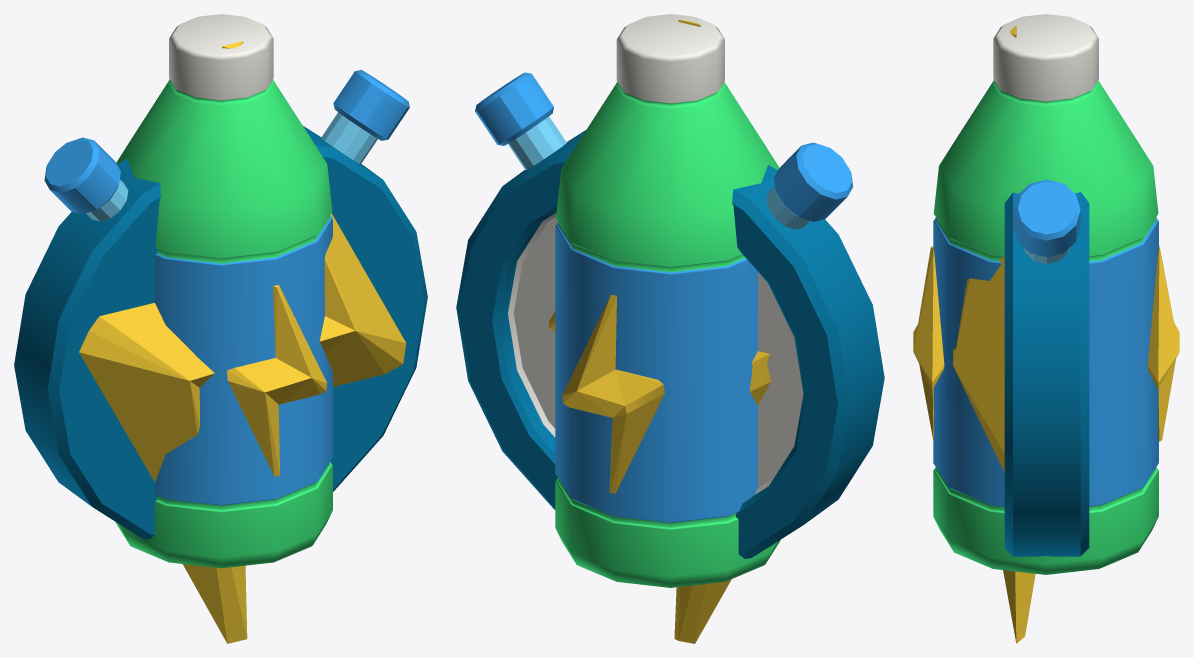
File: Bonus.fbx
3 renders of one model, left to right at view 1: azimuth 30°, elevation 25°; view 2: azimuth 150°, elevation 25°; view 3: azimuth 270°, elevation 25°, orthographic. The views are drawn at different scales.
Visible parts, largest first — view 1: Bonus_3, Bonus_1, Bonus_2; view 2: Bonus_3, Bonus_1, Bonus_2; view 3: Bonus_3, Bonus_1, Bonus_2.
Boxes of the visible parts, box(x1,y1,x2,y2) form: Bonus_3: box(115, 14, 332, 568); Bonus_1: box(14, 70, 427, 539); Bonus_2: box(79, 41, 406, 643); Bonus_3: box(555, 14, 780, 587); Bonus_1: box(456, 72, 884, 558); Bonus_2: box(548, 20, 770, 643); Bonus_3: box(913, 14, 1179, 574); Bonus_1: box(1004, 179, 1089, 556); Bonus_2: box(953, 26, 1035, 643).
Bounding box in the file's own units: 36.18 × 54.45 × 21.67.
